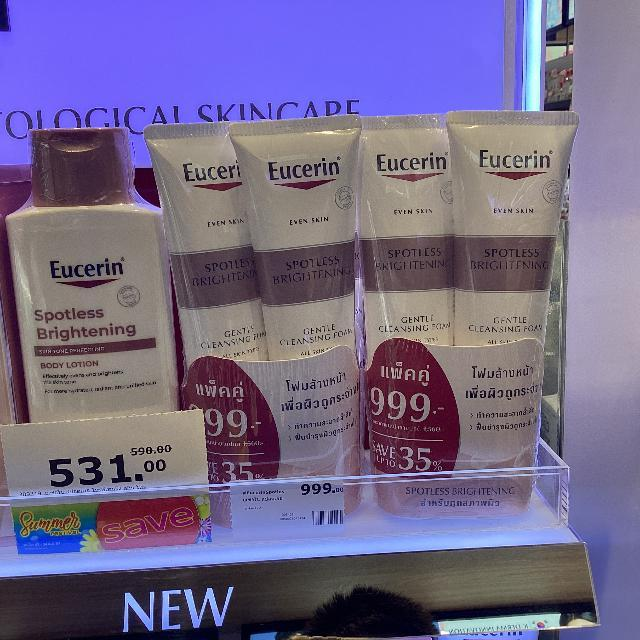Squeeze Tube: (157, 103, 578, 501), (446, 102, 565, 491), (141, 120, 264, 382), (235, 118, 362, 356), (353, 107, 449, 363)
